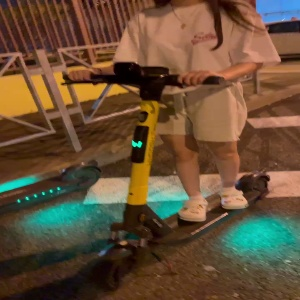human on a scooter: (59, 1, 284, 291)
